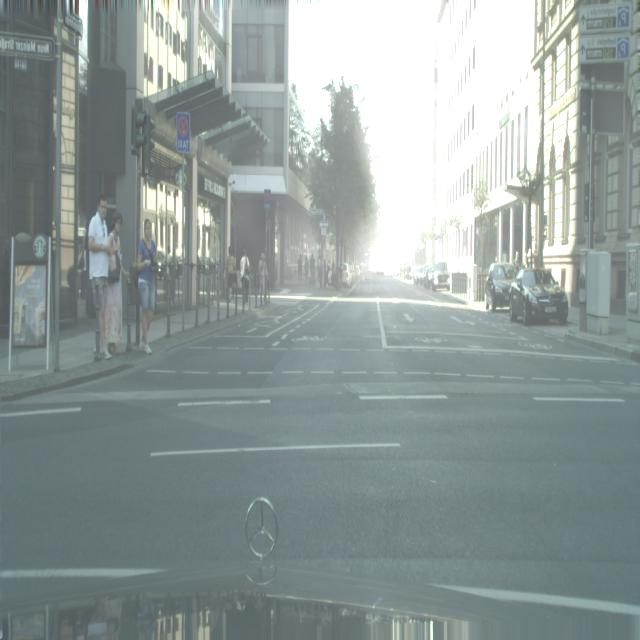person: (88, 194, 114, 362), (106, 210, 127, 352), (137, 218, 157, 356), (225, 244, 237, 309), (240, 247, 251, 312), (258, 251, 268, 308), (298, 252, 302, 282)
truck: (508, 266, 569, 326), (484, 262, 515, 312), (431, 260, 452, 291), (412, 264, 428, 286), (423, 265, 435, 289)
